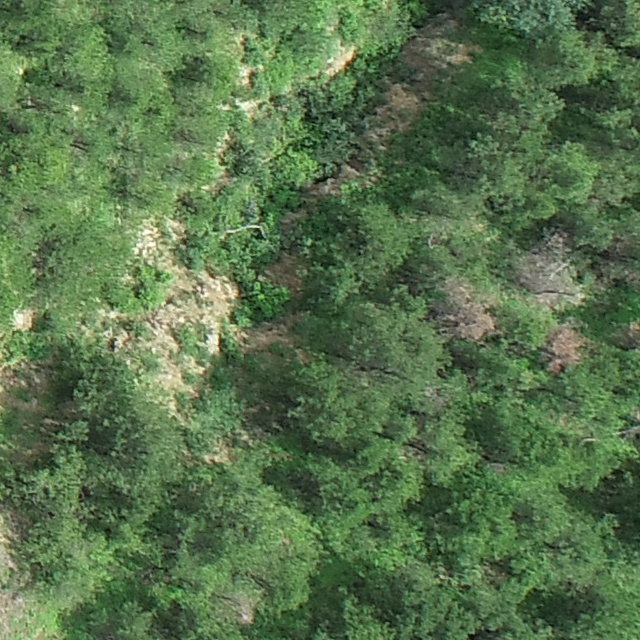unhealthy: (514, 247, 580, 308), (443, 292, 497, 343), (544, 323, 588, 375), (529, 228, 570, 256), (232, 593, 256, 627), (616, 319, 639, 349)
